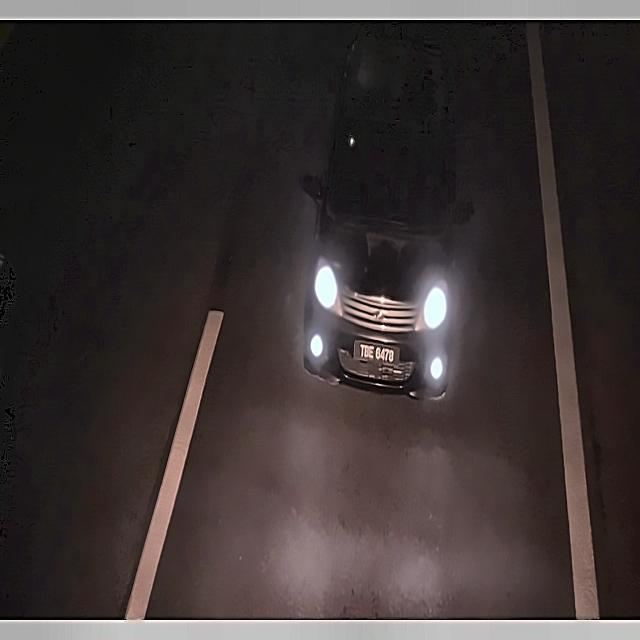car: (349, 332, 404, 373)
